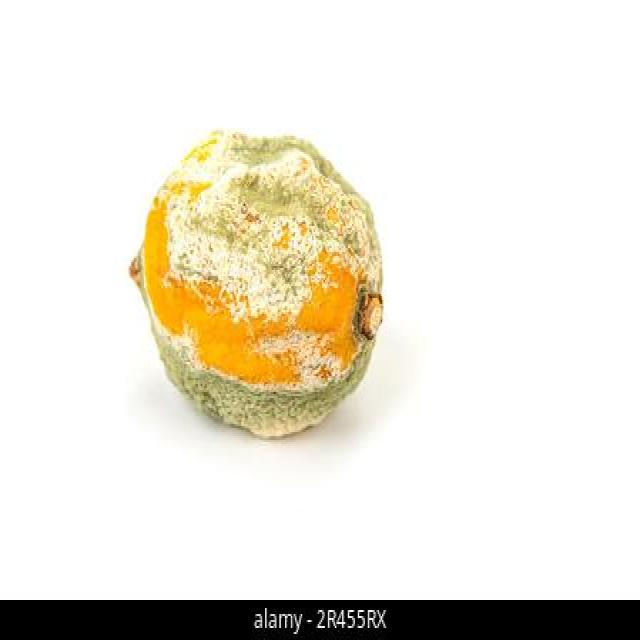Rotten: (130, 125, 383, 441)
